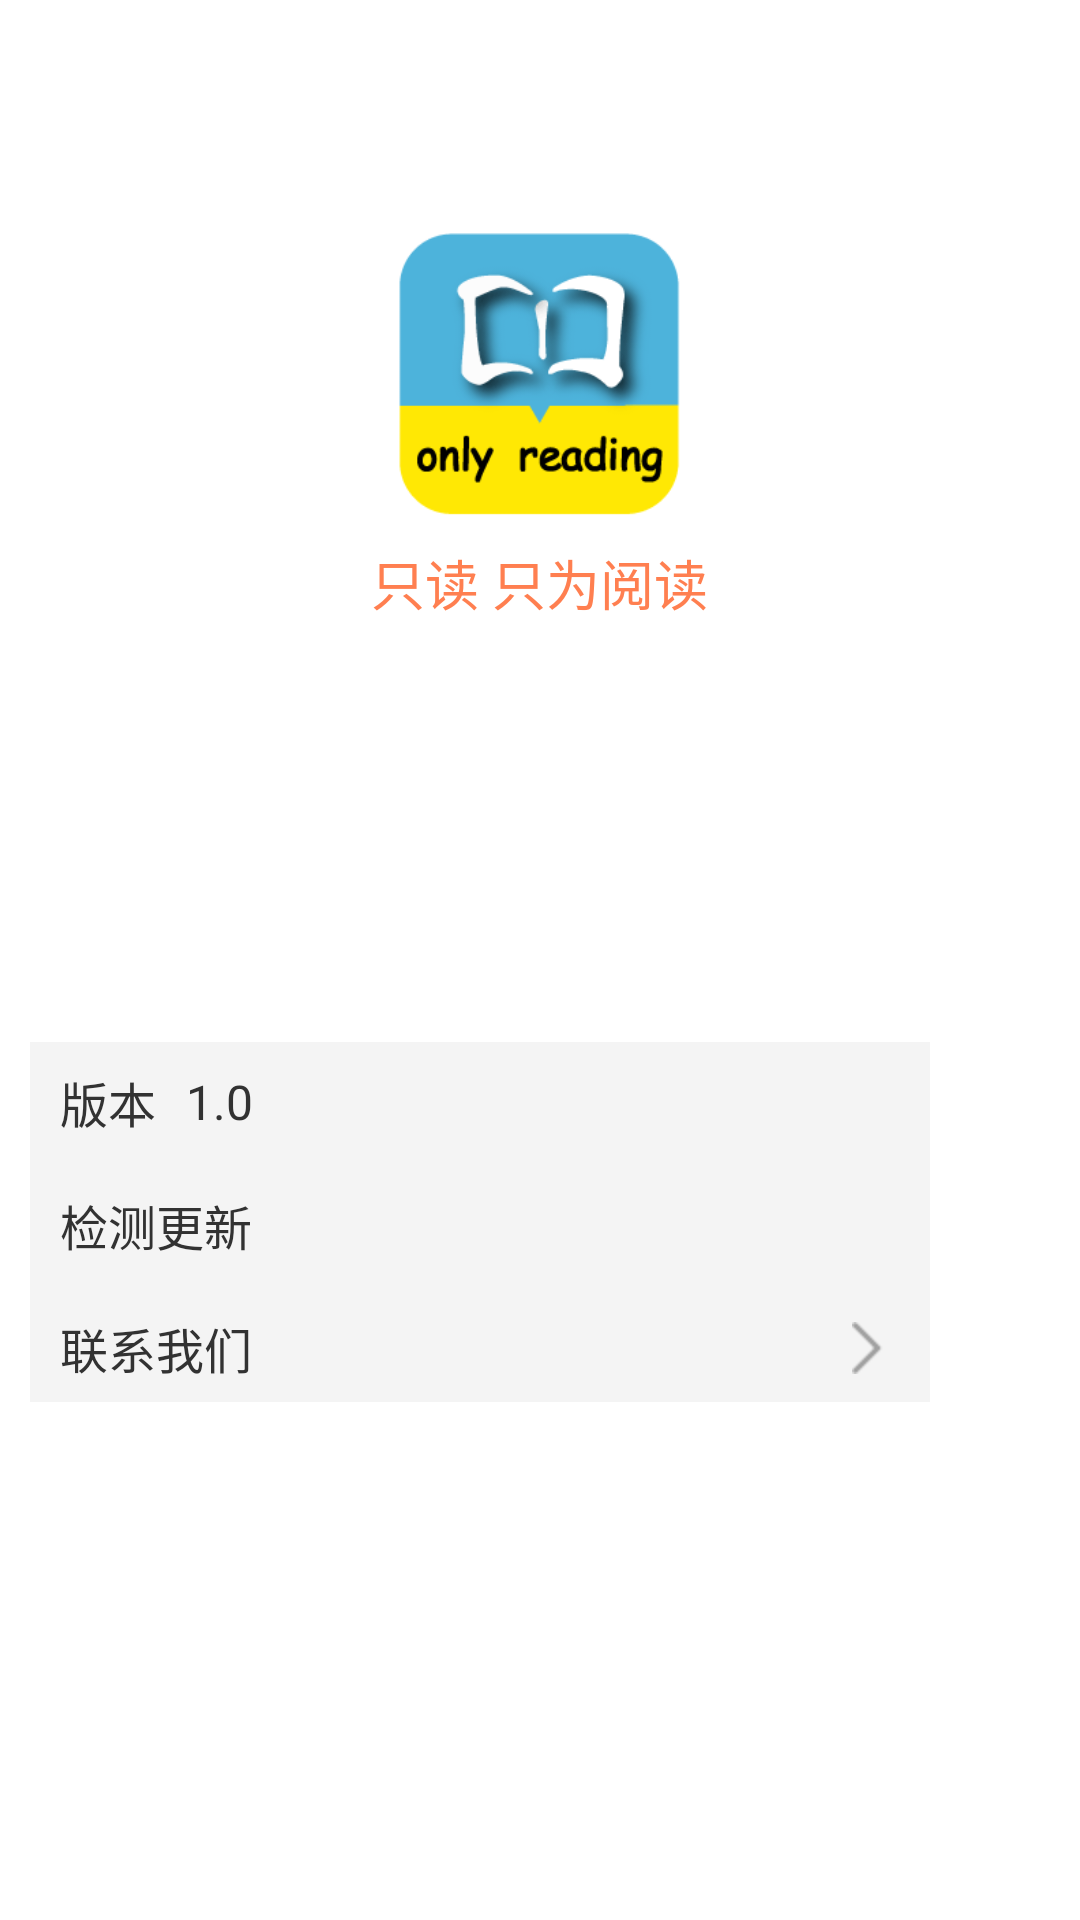

Icons on this 1080 × 1920 Android screen, each with its box as (x1, y1, x2, y2):
right more unsel: (852, 1322, 881, 1374)
